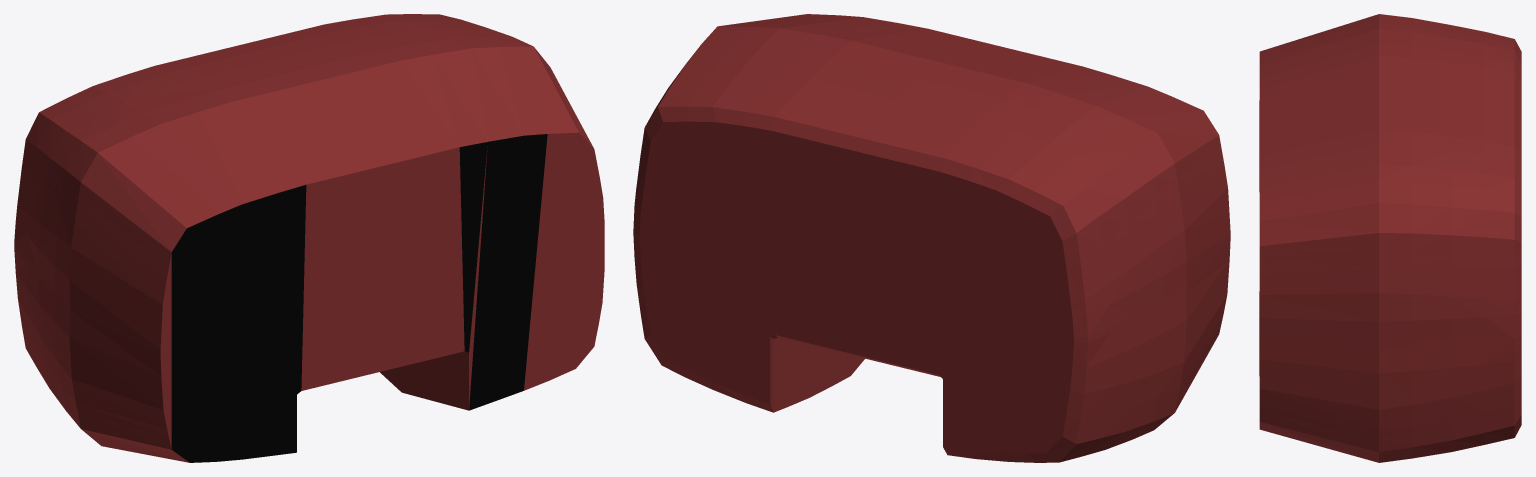
Rendered from rx78_object_083-lib.dae.
3 views of the same model, side by side, from view 1: azimuth 30°, elevation 25°; view 2: azimuth 150°, elevation 25°; view 3: azimuth 270°, elevation 25° (orthographic). The views are drawn at different scales.
Visible parts, largest first — view 1: rx78_object_083Mesh-node; view 2: rx78_object_083Mesh-node; view 3: rx78_object_083Mesh-node.
Boxes of the visible parts, left/top/right/bottom form: rx78_object_083Mesh-node: left=14, top=14, right=604, bottom=462; rx78_object_083Mesh-node: left=633, top=14, right=1230, bottom=462; rx78_object_083Mesh-node: left=1259, top=14, right=1521, bottom=462.
Bounding box in the file's own units: 33.21 × 21.4 × 17.23.
